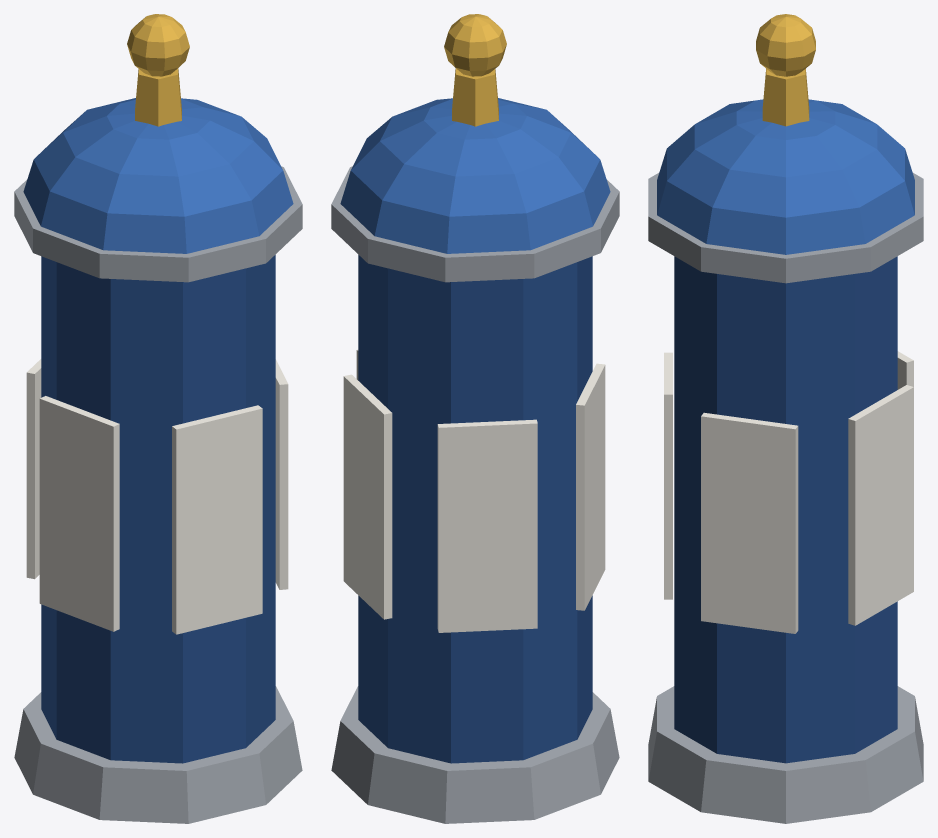
Rendered from b-notice-column.glb.
3 views of the same model, side by side, from view 1: azimuth 30°, elevation 25°; view 2: azimuth 150°, elevation 25°; view 3: azimuth 270°, elevation 25° (orthographic).
Visible parts, largest first — view 1: b-notice-column; view 2: b-notice-column; view 3: b-notice-column.
Boxes of the visible parts, x1=… form: b-notice-column: x1=14, y1=14, x2=302, y2=823; b-notice-column: x1=331, y1=14, x2=619, y2=823; b-notice-column: x1=648, y1=14, x2=923, y2=823.
Bounding box in the file's own units: 0.64 × 1.82 × 0.6087.
